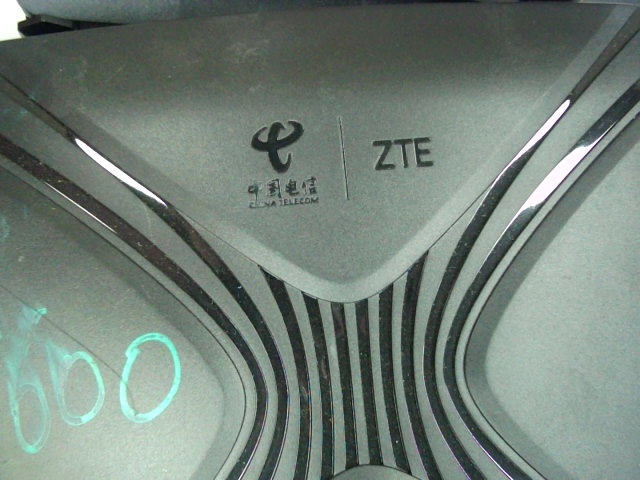AX_ZTEChinaTelecom: (229, 114, 435, 216)
